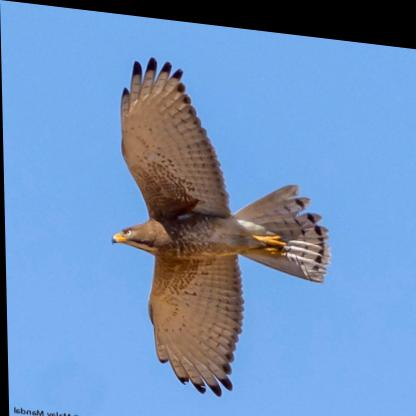Burung: (104, 45, 332, 408)
